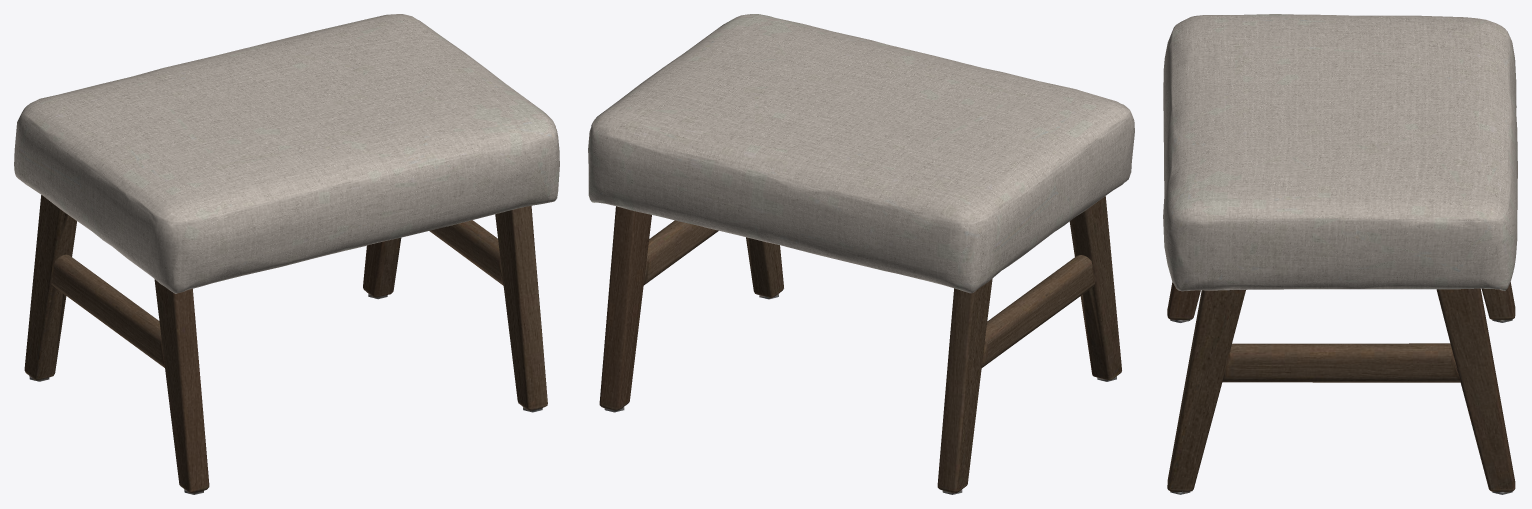
Rendered from ekenaset_podnozek_90624428.glb.
3 views of the same model, side by side, from view 1: azimuth 30°, elevation 25°; view 2: azimuth 150°, elevation 25°; view 3: azimuth 270°, elevation 25° (orthographic). The views are drawn at different scales.
Visible parts, largest first — view 1: ekenaset_podnozek_90624428; view 2: ekenaset_podnozek_90624428; view 3: ekenaset_podnozek_90624428.
Part boxes in pixels (<box>): ekenaset_podnozek_90624428: <box>14,14,559,494</box>; ekenaset_podnozek_90624428: <box>588,14,1134,494</box>; ekenaset_podnozek_90624428: <box>1163,14,1517,494</box>.
Bounding box in the file's own units: 0.5853 × 0.4026 × 0.4277.
Materials: 1 (1 with a texture image).
